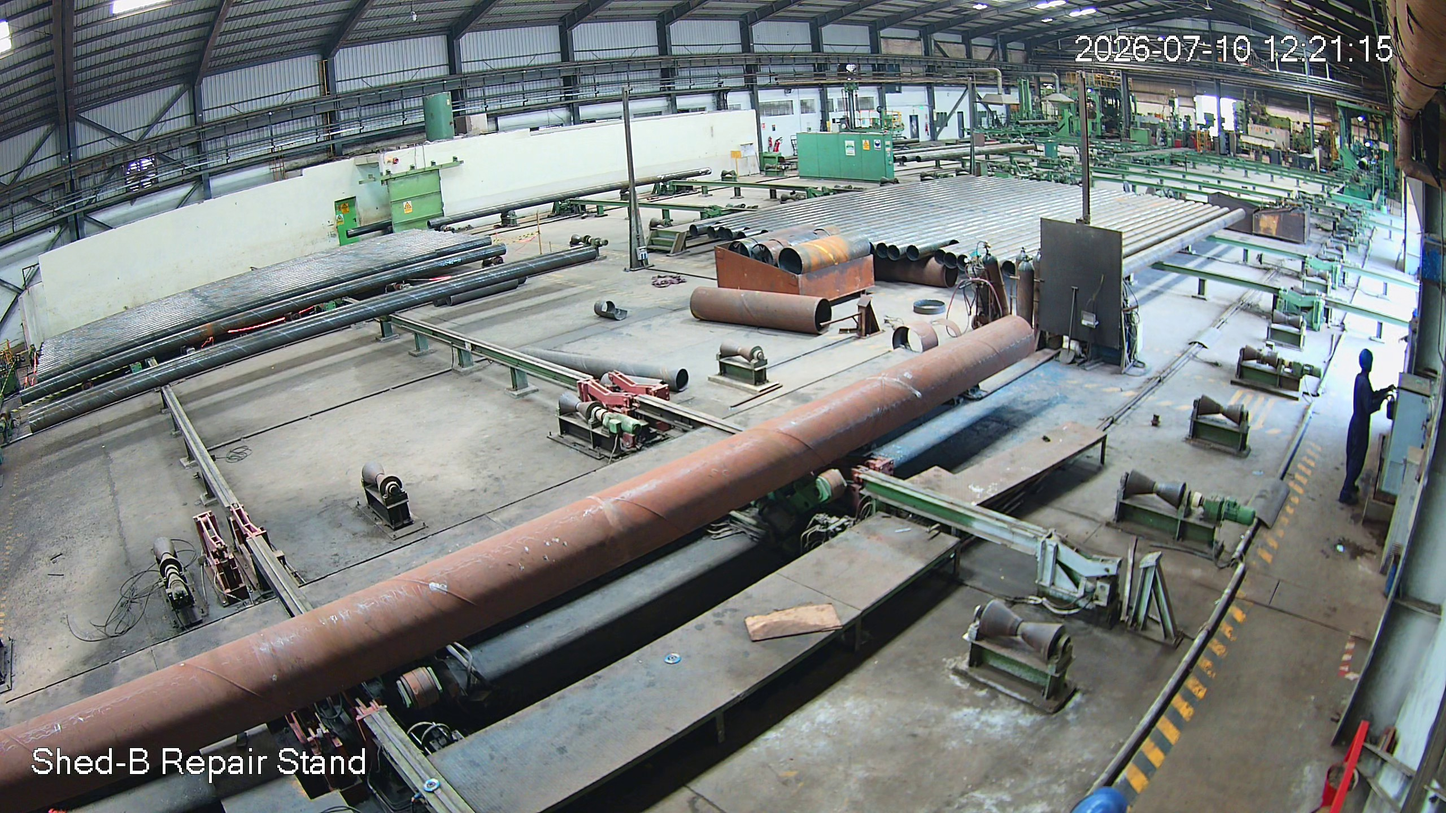Helmet: (1355, 345, 1382, 395)
Person: (1335, 353, 1389, 517)
